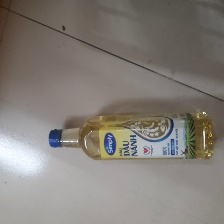Simply: (45, 110, 218, 162)
